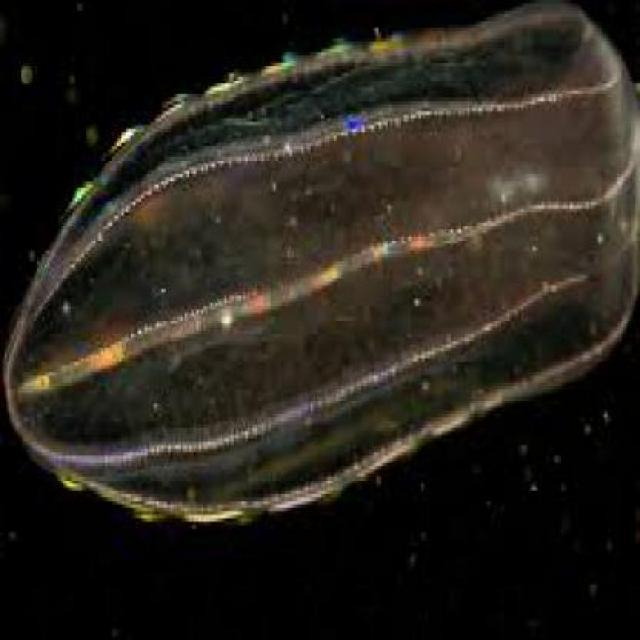Jellyfish: (2, 3, 628, 526)
